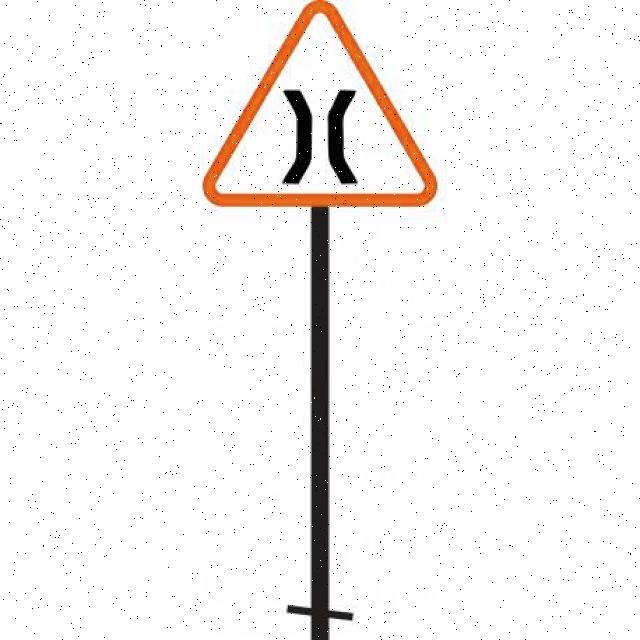Narrow_Bridge: (207, 0, 440, 201)
